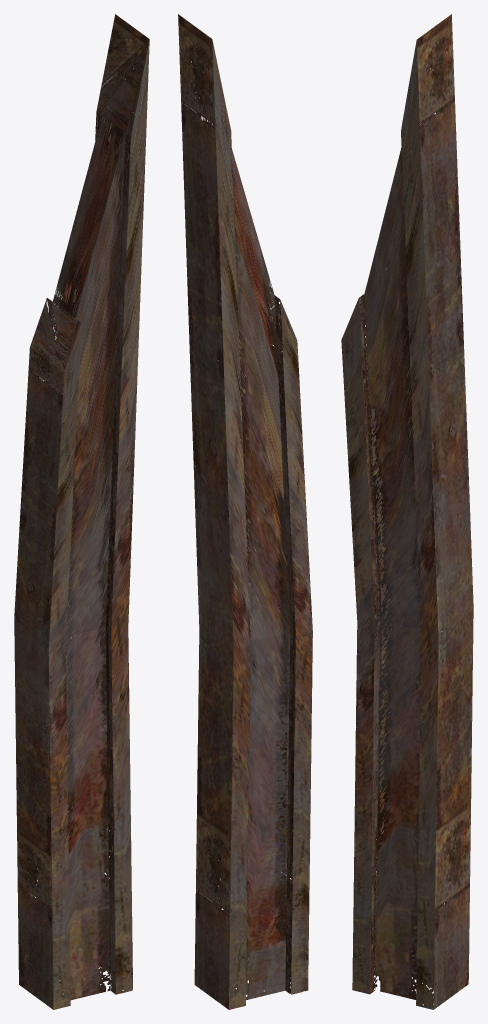
Rendered from destroed col.FBX.
3 renders of one model, left to right at view 1: azimuth 30°, elevation 25°; view 2: azimuth 210°, elevation 25°; view 3: azimuth 330°, elevation 25°, orthographic. The views are drawn at different scales.
Visible parts, largest first — view 1: steel_I_med_3.7; view 2: steel_I_med_3.7; view 3: steel_I_med_3.7.
Boxes of the visible parts, x1,y1,x2,y2 form: steel_I_med_3.7: (14,14,149,1009); steel_I_med_3.7: (178,14,312,1009); steel_I_med_3.7: (341,14,473,1009).
Size of the model in its own units: 320 by 3700 by 389.
